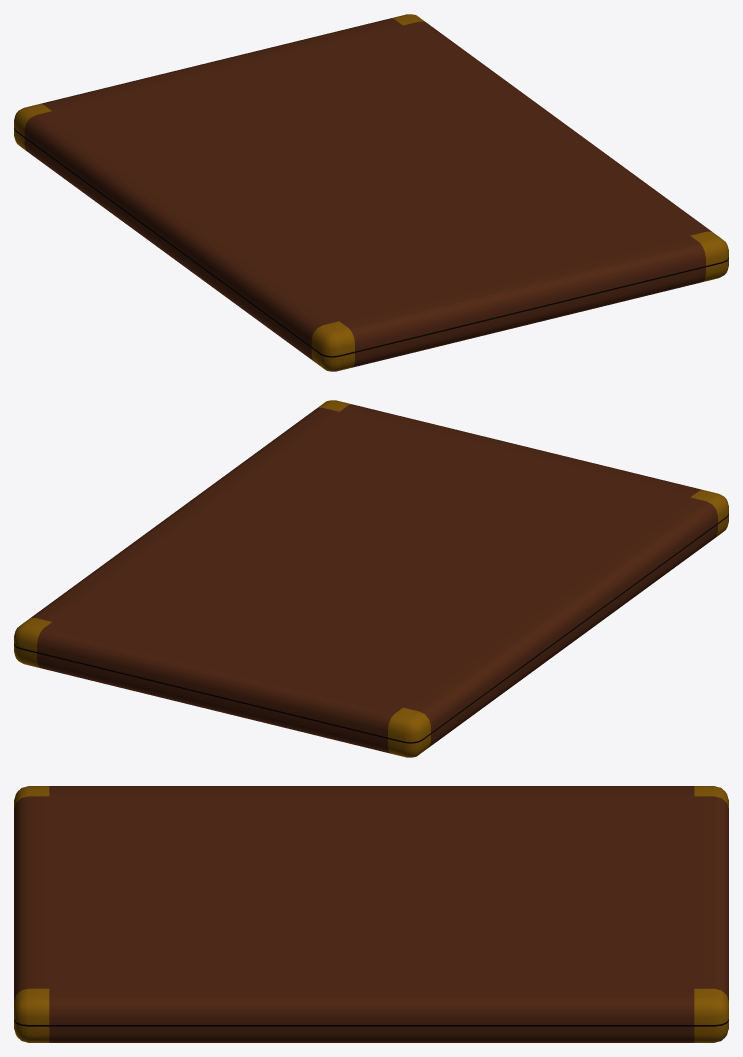
Rendered from materac_kolor.fbx.
3 renders of one model, top to bottom at view 1: azimuth 30°, elevation 25°; view 2: azimuth 150°, elevation 25°; view 3: azimuth 270°, elevation 25°, orthographic. The views are drawn at different scales.
Visible parts, largest first — view 1: Materac; view 2: Materac; view 3: Materac.
Boxes of the visible parts, <box> form: Materac: <box>14,14,728,371</box>; Materac: <box>14,400,728,757</box>; Materac: <box>14,786,728,1042</box>.
Size of the model in its own units: 292 by 26.72 by 396.
